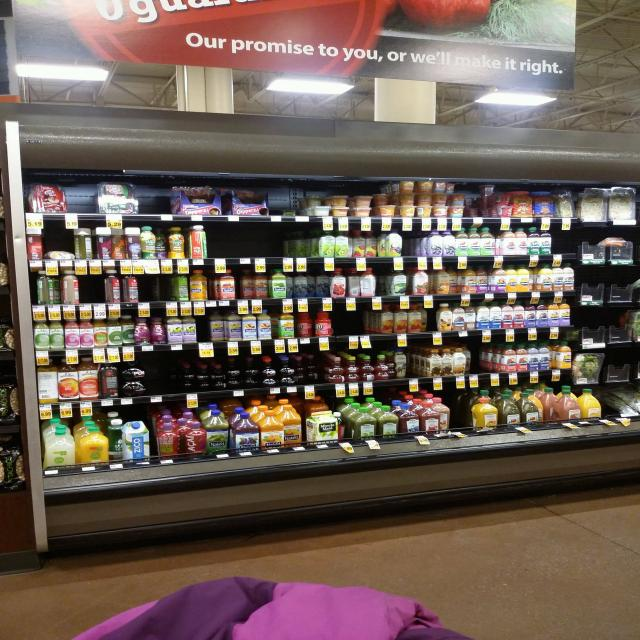empty: (202, 233, 308, 260), (142, 349, 200, 391), (325, 305, 381, 335), (452, 390, 480, 439), (259, 190, 314, 214), (138, 275, 179, 307), (467, 346, 503, 379), (77, 274, 111, 306), (600, 384, 630, 419), (133, 184, 168, 214), (551, 223, 579, 258), (68, 186, 98, 211)
